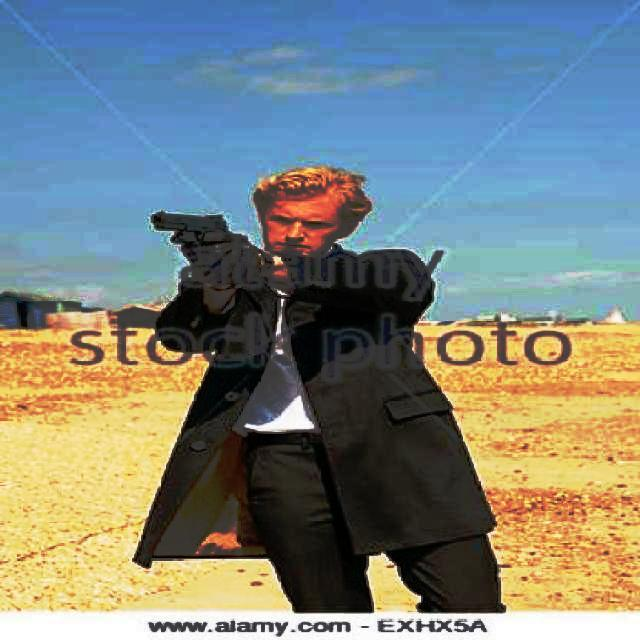Gun: (146, 197, 239, 269)
